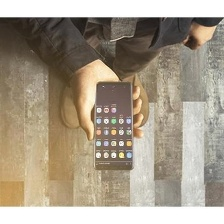phone: (91, 79, 135, 173)
